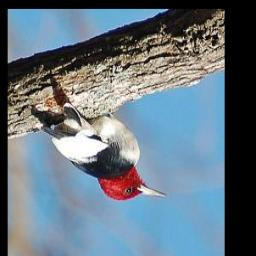Woodpecker: (40, 101, 170, 202)
